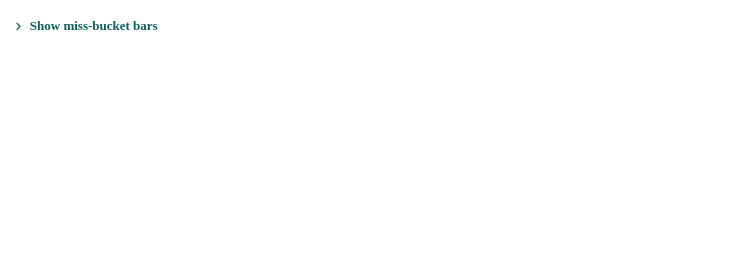
Test: sizes segments in proportion to shares and prints percent text, avg miss and within ±1
Click the button "Show miss-bucket bars": {"x": 85, "y": 26} [8, 16, 162, 37]
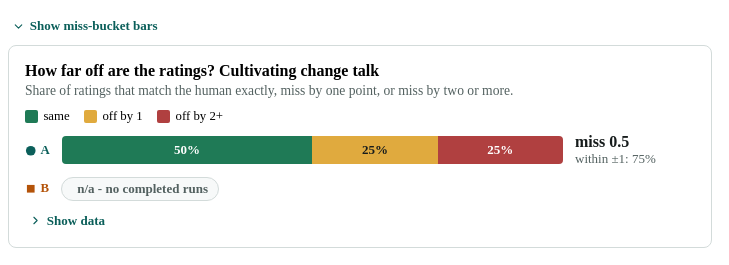
Check: the element with class "deep-stack" shows "miss 0.5", box [25, 133, 695, 167]
Check: the element with class "deep-stack" shows "within ±1: 75%", box [25, 133, 695, 167]
